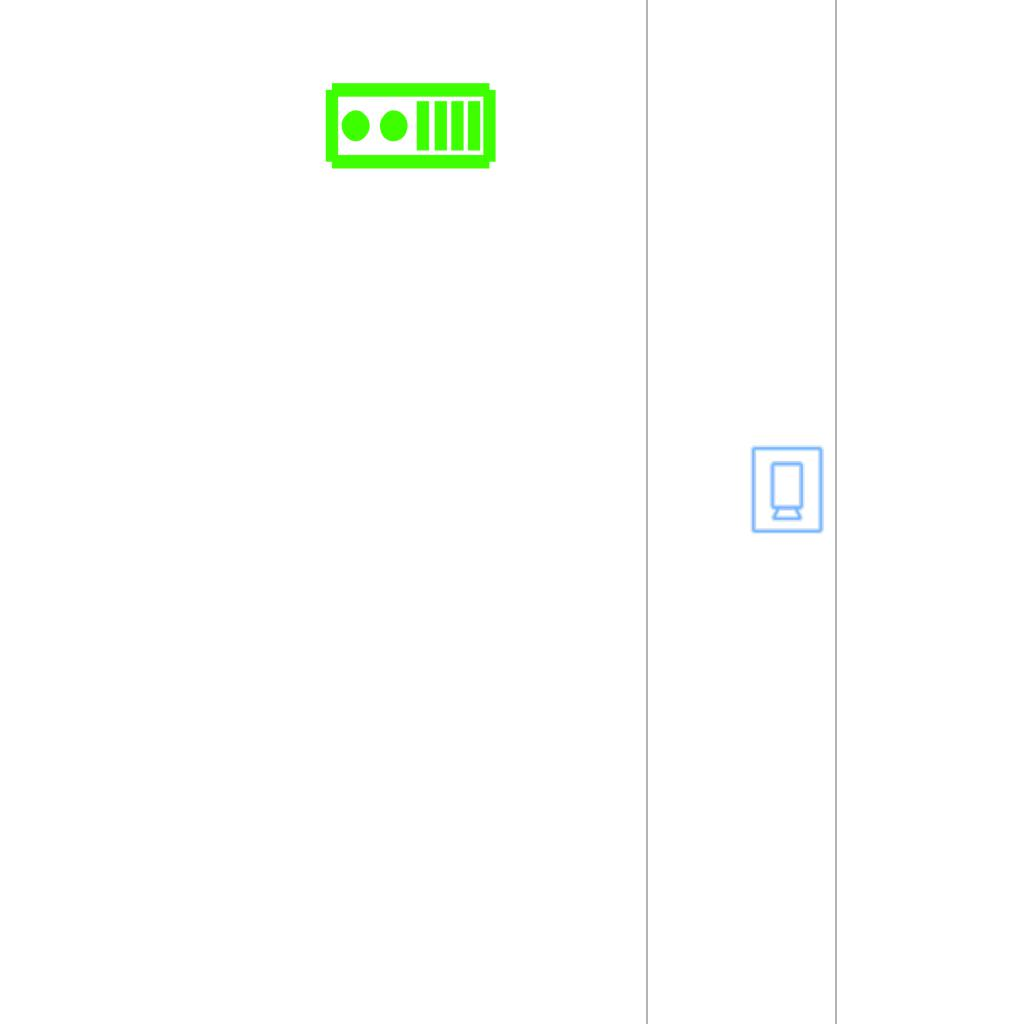Gegensprechanlage_mit_Video: (322, 80, 498, 175)
KFO_Kamera_mit_Festobjektiv: (748, 444, 825, 535)
